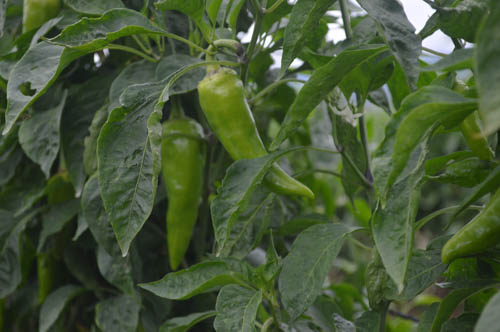ChiliPepper: (203, 71, 318, 197), (156, 120, 208, 272), (439, 193, 498, 271)
